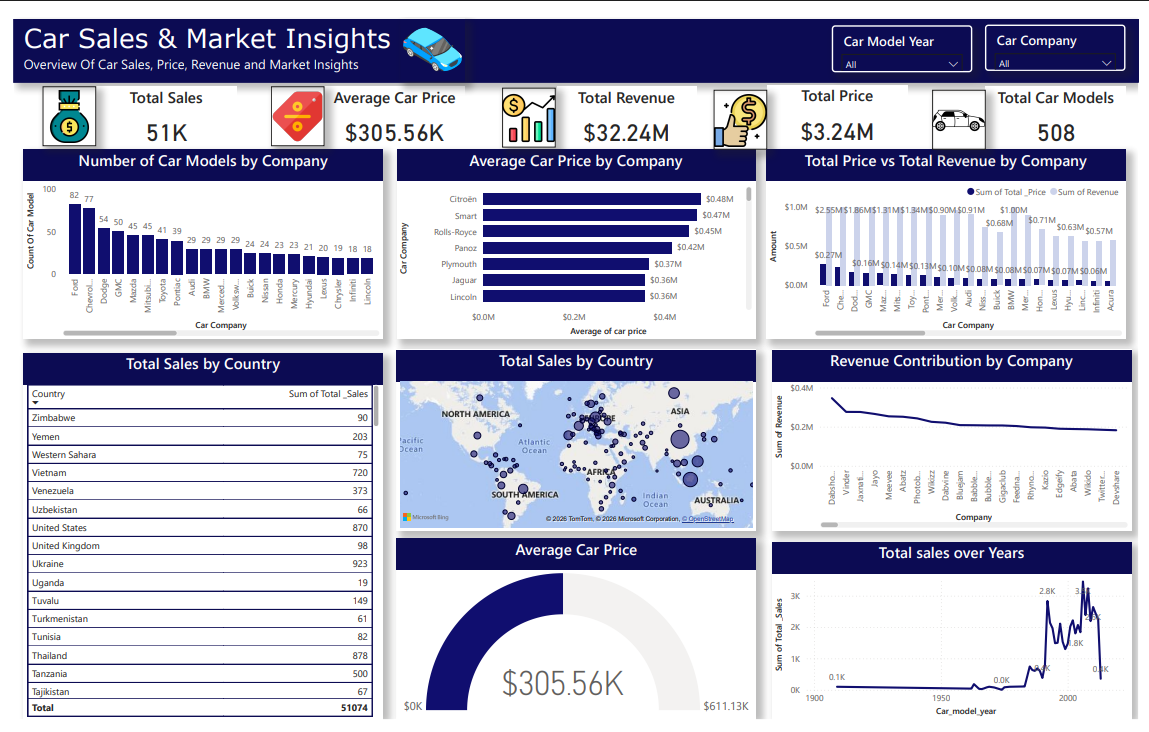

The page's visual inventory and layout, read from the dashboard file:
{"tool":"powerbi","page":{"name":"Page 1","canvas":[1600,1000],"ordinal":0},"visuals":[{"type":"shape","title":"Car Sales & Market Insights","box":[0,3.6,1600,89.3],"z":0},{"type":"textbox","title":"Car Sales & Market Insights","box":[13.8,6.9,530.4,80.4],"z":1000},{"type":"card","title":"Total Sales","fields":{"Values":["Sum(Product (1).Total _Sales)"]},"box":[117.3,98.9,200.2,87.4],"z":2000},{"type":"card","title":"Average Car Price","fields":{"Values":["totals.average car price"]},"box":[441.7,98.9,200.2,85.1],"z":3000},{"type":"card","title":"Total Revenue","fields":{"Values":["Sum(Product (1).Revenue)"]},"box":[773,98.9,197.9,85.1],"z":4000},{"type":"card","title":"Total Price","fields":{"Values":["Sum(Product (1).Total _Price)"]},"box":[1072.1,96.6,200.2,87.4],"z":5000},{"type":"card","title":"Total Car Models","fields":{"Values":["Count(Basic Match(Car) (1).Car_model)"]},"box":[1382.7,98.9,200.2,85.1],"z":6000},{"type":"clusteredColumnChart","title":"Number of Car Models by Company","fields":{"Category":["Basic Match(Car) (1).car_company"],"Y":["CountNonNull(Basic Match(Car) (1).Car_model)"]},"box":[14.3,189.3,510.7,269.6],"z":7000},{"type":"clusteredBarChart","title":"Average Car Price by Company","fields":{"Category":["Basic Match(Car) (1).car_company"],"Y":["Avg(Basic Match(Car) (1).Car_Price)"]},"box":[544.6,189.3,510.7,269.6],"z":8000},{"type":"clusteredColumnChart","title":"Total Price vs Total Revenue by Company","fields":{"Category":["Basic Match(Car) (1).car_company"],"Y":["Sum(Product (1).Total _Price)","Sum(Product (1).Revenue)"]},"box":[1071.4,189.3,510.7,269.6],"z":9000},{"type":"map","title":"Total Sales by Country","fields":{"Category":["Basic Math (Country) (1).Country"],"Size":["Sum(Product (1).Total _Sales)"]},"box":[545.3,473.9,510.7,257.7],"z":10000},{"type":"lineChart","title":"Revenue Contribution by Company","fields":{"Category":["Product (1).Company"],"Y":["Sum(Product (1).Revenue)"]},"box":[1079,473.9,510.7,257.7],"z":11000},{"type":"gauge","title":"Average Car Price ","fields":{"Y":["Avg(Basic Match(Car) (1).Car_Price)"]},"box":[545.3,743.1,510.7,257.7],"z":12000},{"type":"slicer","fields":{"Values":["Basic Match(Car) (1).Car_model_year"]},"box":[1164.3,12.5,200,66.1],"z":13000},{"type":"slicer","fields":{"Values":["Basic Match(Car) (1).car_company"]},"box":[1382.1,10.7,200,66.1],"z":14000},{"type":"lineChart","title":"Total sales  over Years","fields":{"Y":["Sum(Product (1).Total _Sales)"],"Category":["Basic Match(Car) (1).Car_model_year"]},"box":[1079,747.7,510.7,253.1],"z":15000},{"type":"tableEx","title":"Total Sales by Country","fields":{"Values":["Basic Math (Country) (1).Country","Sum(Product (1).Total _Sales)"]},"box":[13.8,478.5,510.7,522.3],"z":16000},{"type":"image","box":[549.9,2.3,92,89.7],"z":17000},{"type":"image","box":[41.4,98.9,75.9,85.1],"z":18000},{"type":"image","box":[365.8,98.9,75.9,85.1],"z":19000},{"type":"image","box":[694.8,101.2,75.9,85.1],"z":20000},{"type":"image","box":[996.2,103.5,75.9,85.1],"z":21000},{"type":"image","box":[1306.8,103.5,75.9,85.1],"z":22000}]}

Visuals, with their boxes in screenshot pixels (x1, y1, x2, y2), scaled from the page's 1600x1000 canvas onto the 1149x732 screenshot:
"Car Sales & Market Insights" shape: x1=0, y1=3, x2=1148, y2=68
"Car Sales & Market Insights" textbox: x1=10, y1=5, x2=391, y2=64
"Total Sales" card: x1=84, y1=72, x2=228, y2=136
"Average Car Price" card: x1=317, y1=72, x2=461, y2=135
"Total Revenue" card: x1=555, y1=72, x2=697, y2=135
"Total Price" card: x1=770, y1=71, x2=914, y2=135
"Total Car Models" card: x1=993, y1=72, x2=1137, y2=135
"Number of Car Models by Company" clusteredColumnChart: x1=10, y1=139, x2=377, y2=336
"Average Car Price by Company" clusteredBarChart: x1=391, y1=139, x2=758, y2=336
"Total Price vs Total Revenue by Company" clusteredColumnChart: x1=769, y1=139, x2=1136, y2=336
"Total Sales by Country" map: x1=392, y1=347, x2=758, y2=536
"Revenue Contribution by Company" lineChart: x1=775, y1=347, x2=1142, y2=536
"Average Car Price " gauge: x1=392, y1=544, x2=758, y2=731
slicer - Basic Match(Car) (1).Car_model_year: x1=836, y1=9, x2=980, y2=58
slicer - Basic Match(Car) (1).car_company: x1=993, y1=8, x2=1136, y2=56
"Total sales  over Years" lineChart: x1=775, y1=547, x2=1142, y2=731
"Total Sales by Country" tableEx: x1=10, y1=350, x2=377, y2=731
image: x1=395, y1=2, x2=461, y2=67
image: x1=30, y1=72, x2=84, y2=135
image: x1=263, y1=72, x2=317, y2=135
image: x1=499, y1=74, x2=553, y2=136
image: x1=715, y1=76, x2=770, y2=138
image: x1=938, y1=76, x2=993, y2=138
